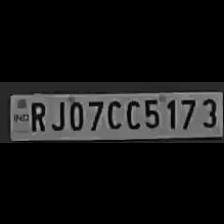0: (65, 98, 84, 130)
1: (162, 97, 178, 129)
3: (198, 94, 218, 128)
5: (140, 96, 162, 128)
7: (176, 96, 196, 128), (85, 97, 103, 131)
C: (104, 96, 122, 130), (123, 96, 141, 128)
J: (48, 97, 66, 131)
R: (26, 97, 46, 130)
